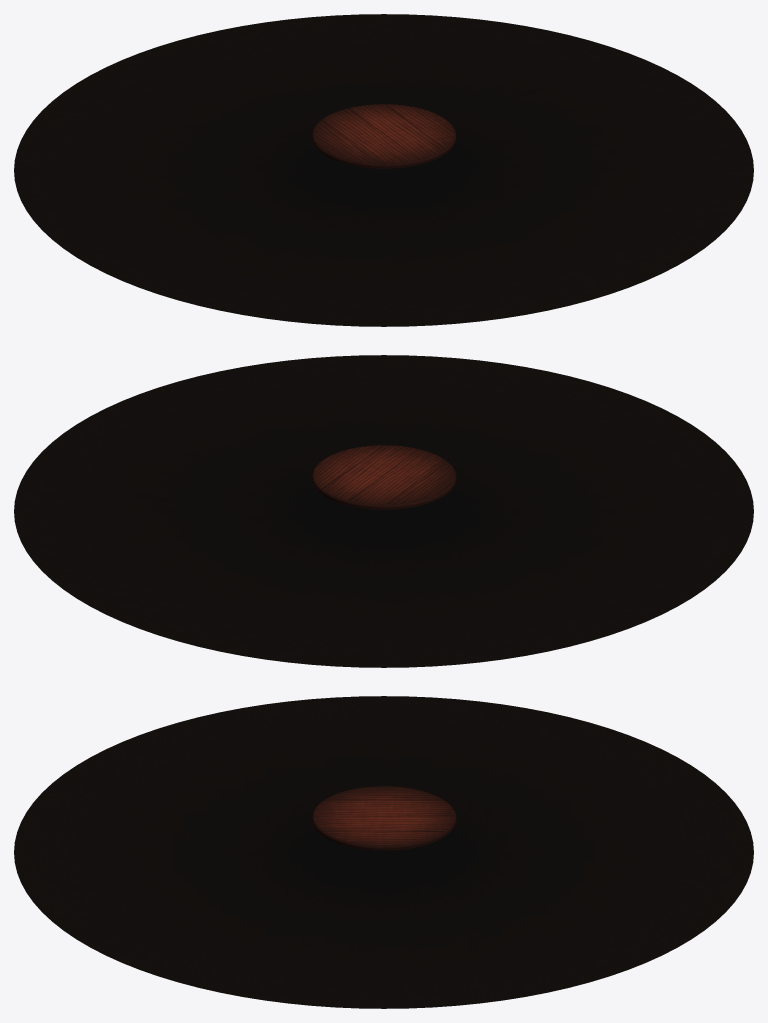
Rendered from table_library.glb.
3 views of the same model, one above another, from view 1: azimuth 30°, elevation 25°; view 2: azimuth 150°, elevation 25°; view 3: azimuth 270°, elevation 25° (orthographic).
Visible parts, largest first — view 1: table; view 2: table; view 3: table.
Boxes of the visible parts, x1,y1,x2,y2 form: table: (14, 14, 753, 326); table: (14, 355, 753, 667); table: (14, 696, 753, 1008).
Size of the model in its own units: 92 by 5 by 92.
1 material, 1 textured.
